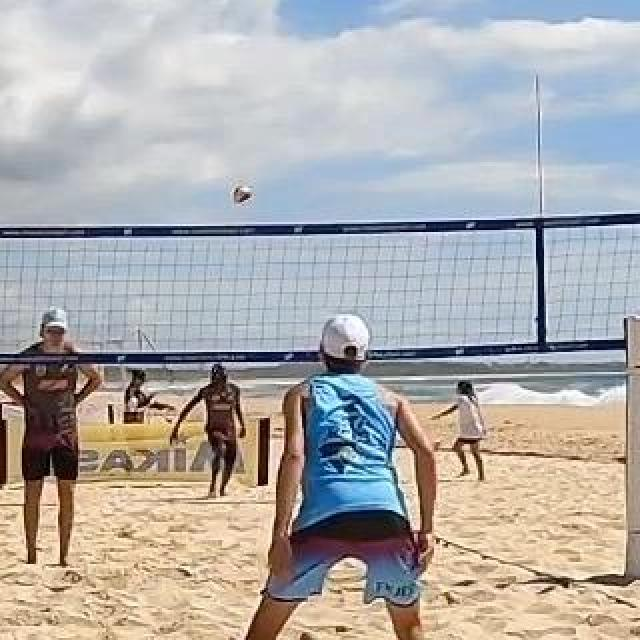volleyball: (233, 184, 253, 206)
